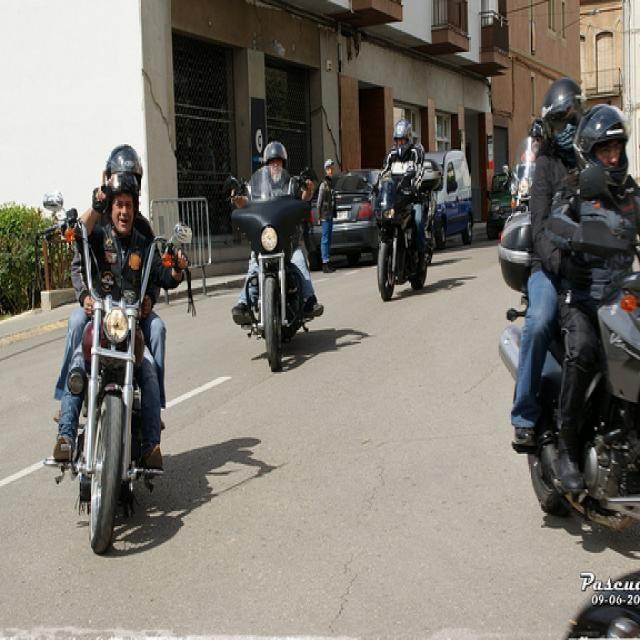Vehicle: (40, 190, 186, 548), (496, 211, 640, 544), (224, 168, 320, 372), (364, 154, 444, 302), (304, 164, 386, 273), (422, 148, 479, 252), (424, 152, 476, 252), (503, 137, 539, 226), (486, 170, 514, 240)
